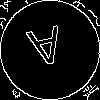A: (25, 25, 69, 78)
